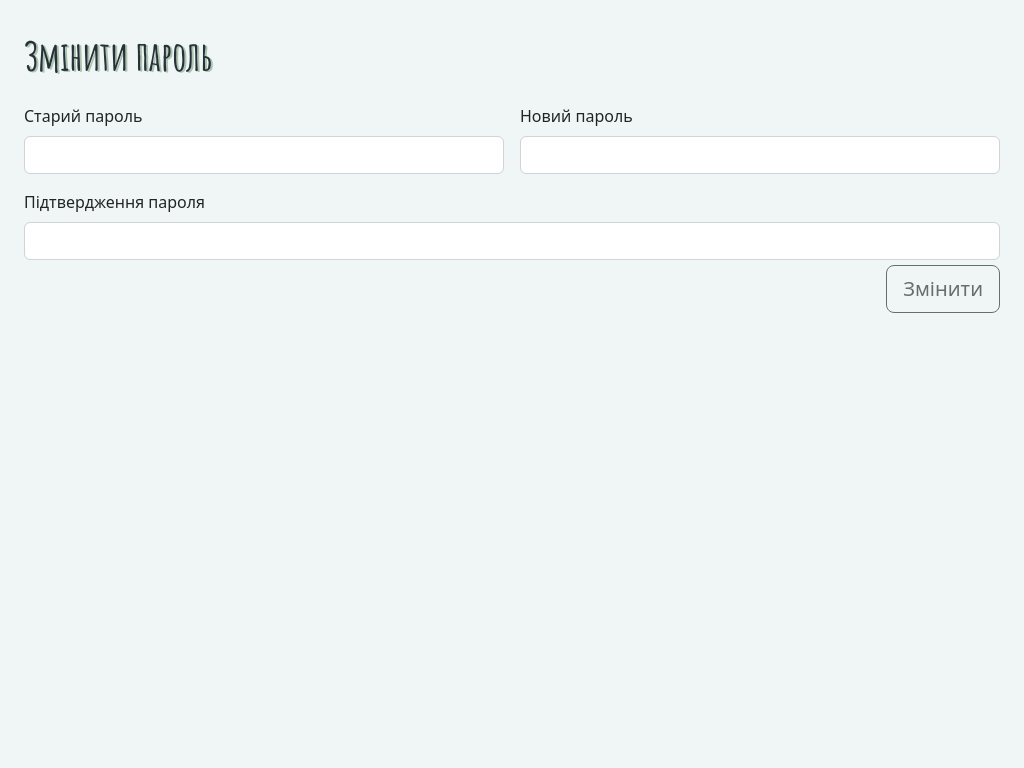
Test: ChangePasswordForm › Given incorrect old password, it should display error message
Type "incorrectpassword" into the password field labelled "Старий пароль" at [264, 155], box [24, 136, 504, 174]
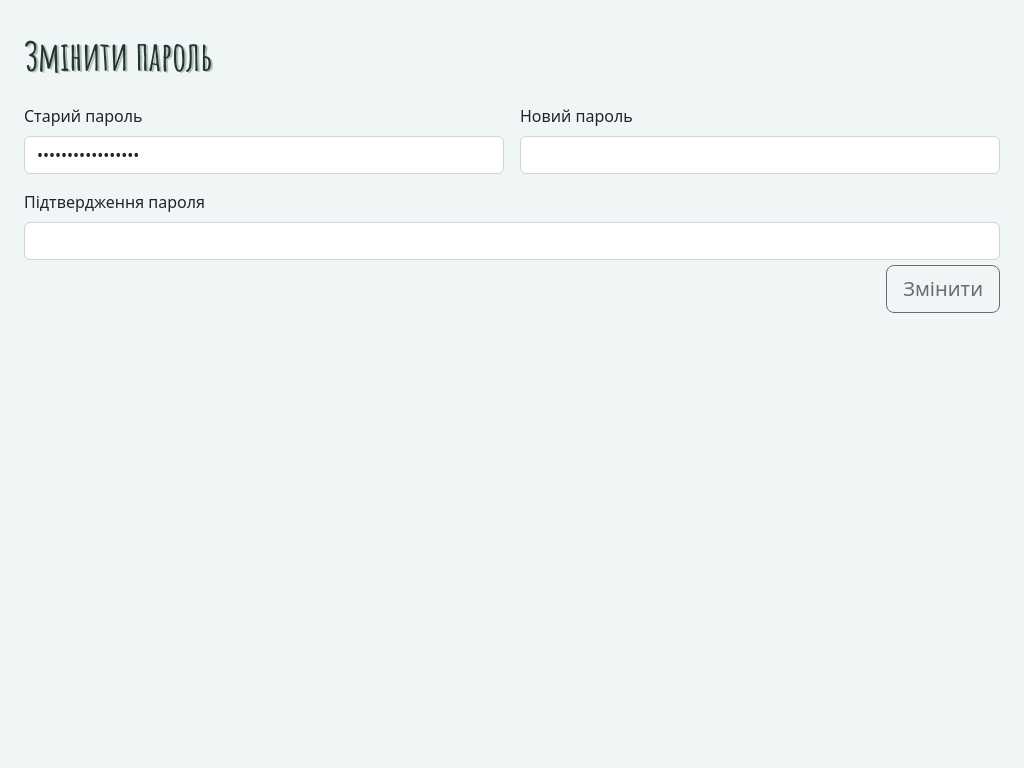
Type "newpassword" into the password field labelled "Новий пароль" at [760, 155], box [520, 136, 1000, 174]
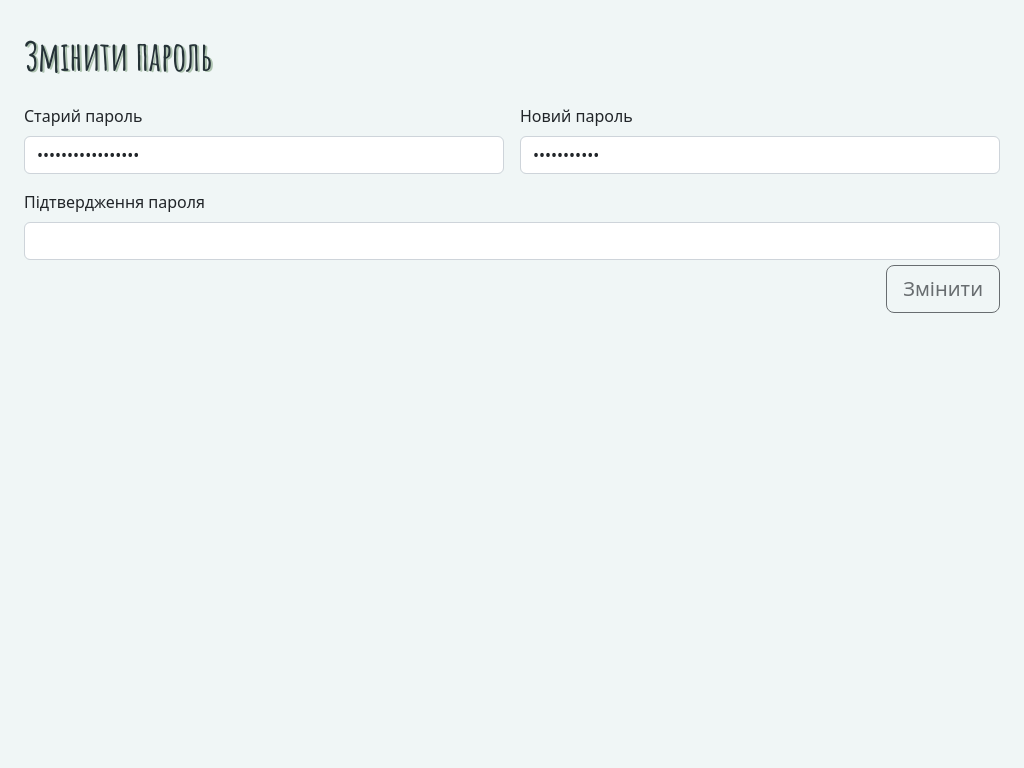
Type "newpassword" into the password field labelled "Підтвердження пароля" at [512, 241], box [24, 222, 1000, 260]
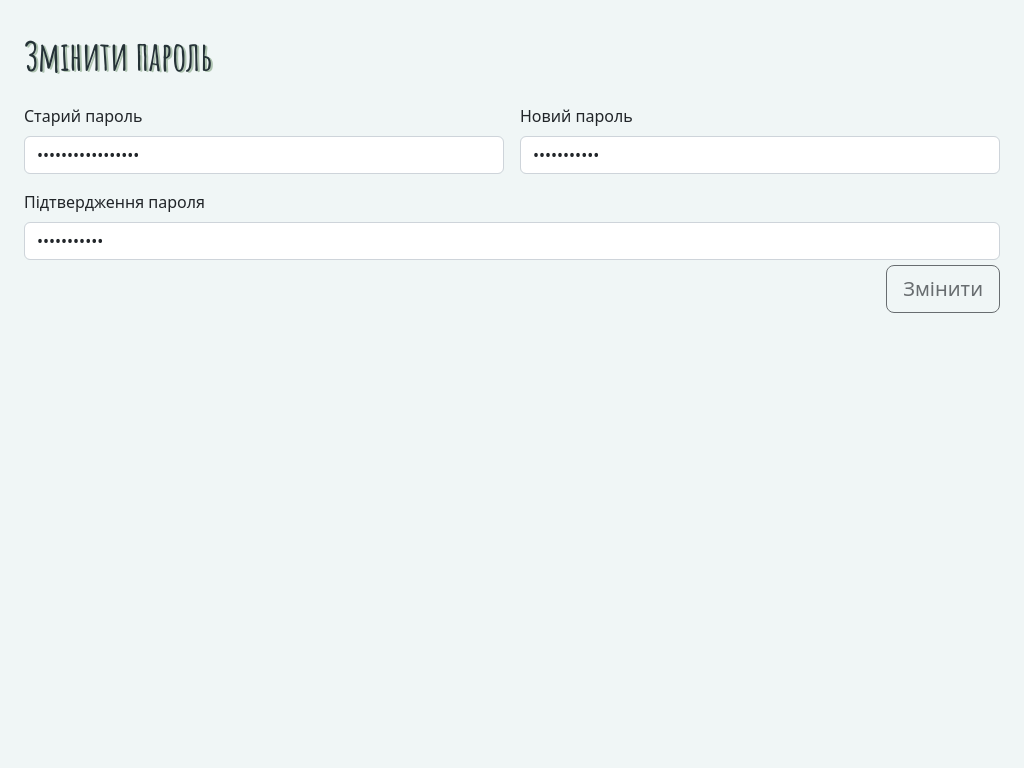
Submit the form with test id "change-password-form", box [0, 0, 1023, 409]
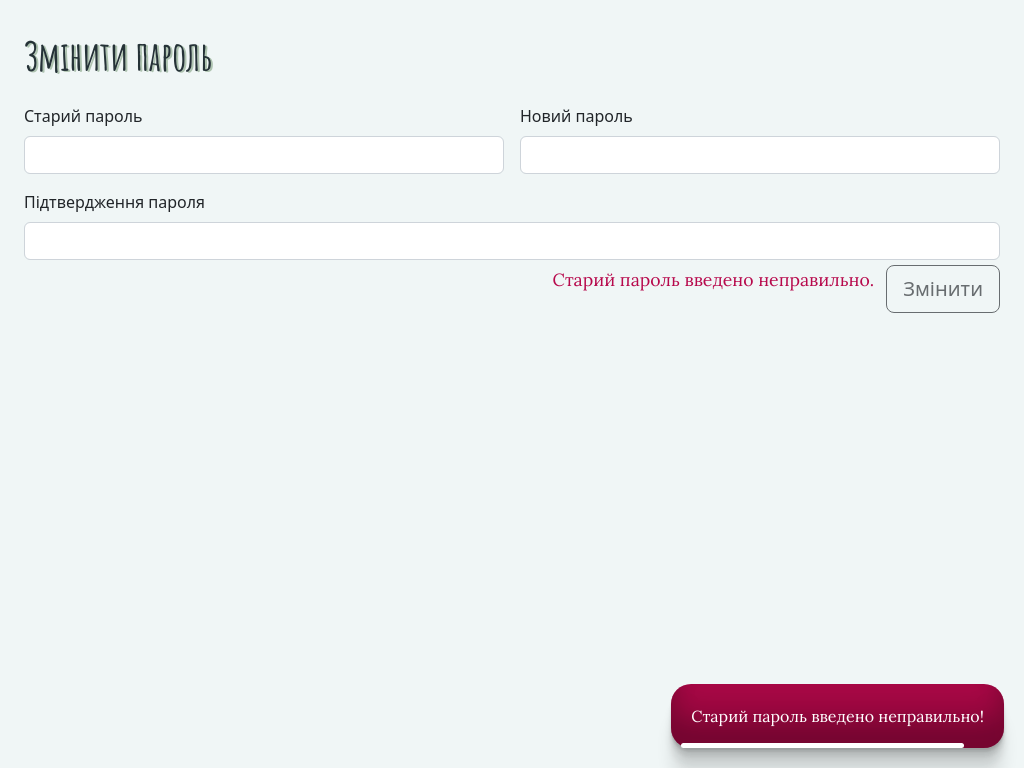
expect the text "Старий пароль введено неправильно!" is shown: met, box [671, 684, 1004, 748]
